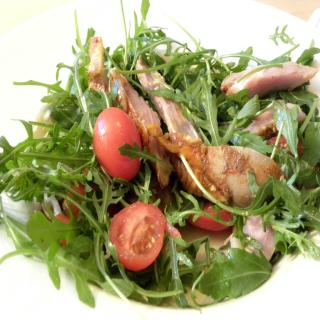tomato: (110, 201, 166, 272), (92, 107, 144, 181), (63, 183, 102, 222), (189, 202, 237, 231), (264, 134, 305, 165)
